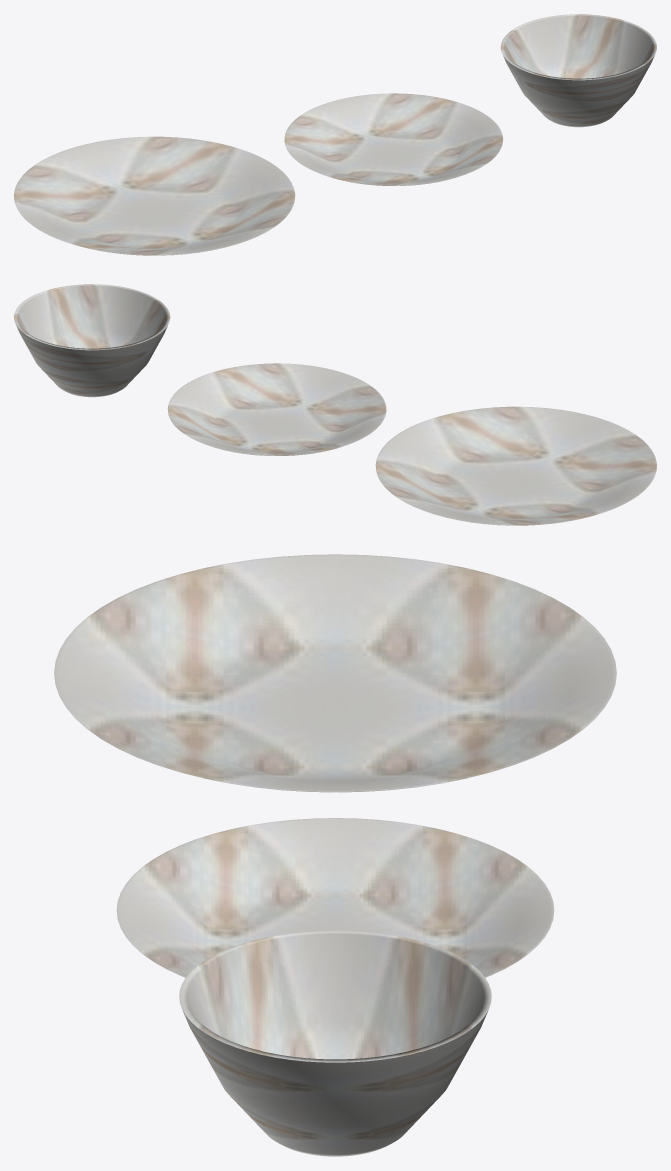
File: MAR-13.glb
The picture shows the model from 3 angles, top to bottom: view 1: azimuth 30°, elevation 25°; view 2: azimuth 150°, elevation 25°; view 3: azimuth 270°, elevation 25°; orthographic projection. The views are drawn at different scales.
Size of the model in its own units: 0.68 by 0.07 by 0.27.
6 materials, 6 textured.
